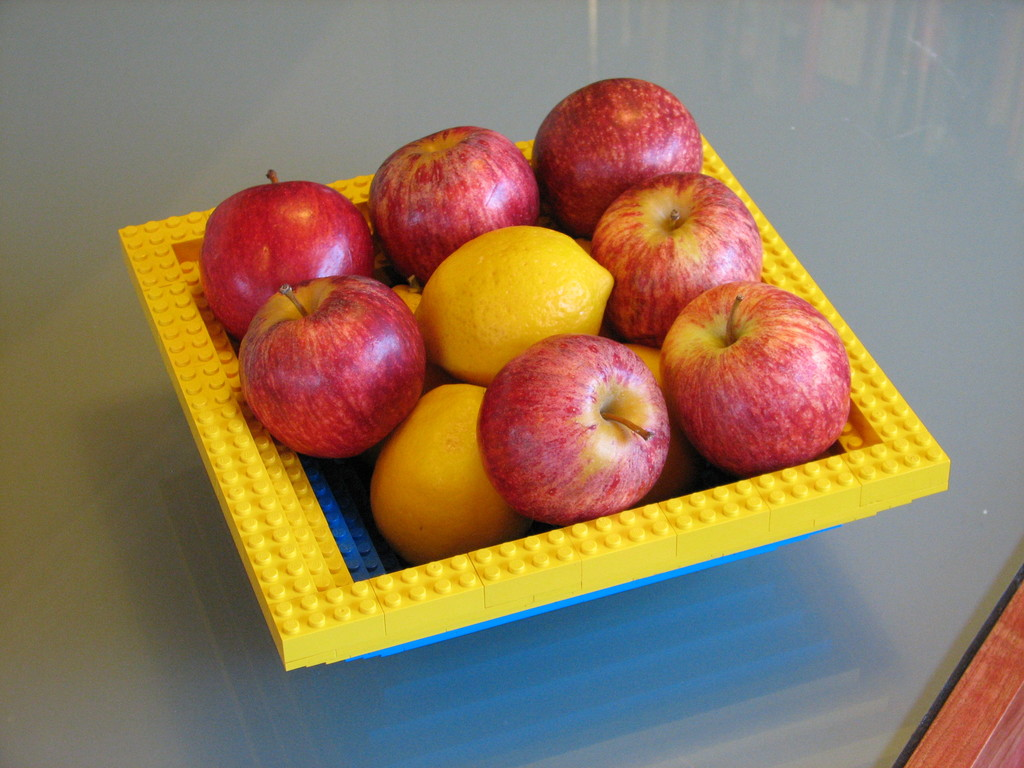Apple: (195, 76, 764, 527), (670, 287, 848, 482)
